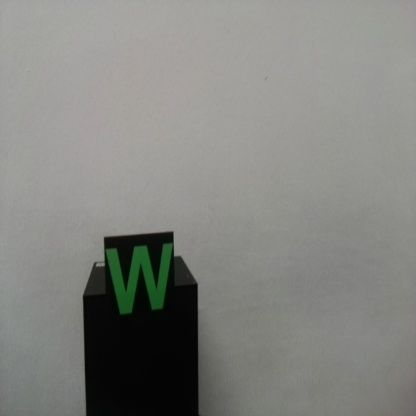id_12: (104, 235, 175, 329)
